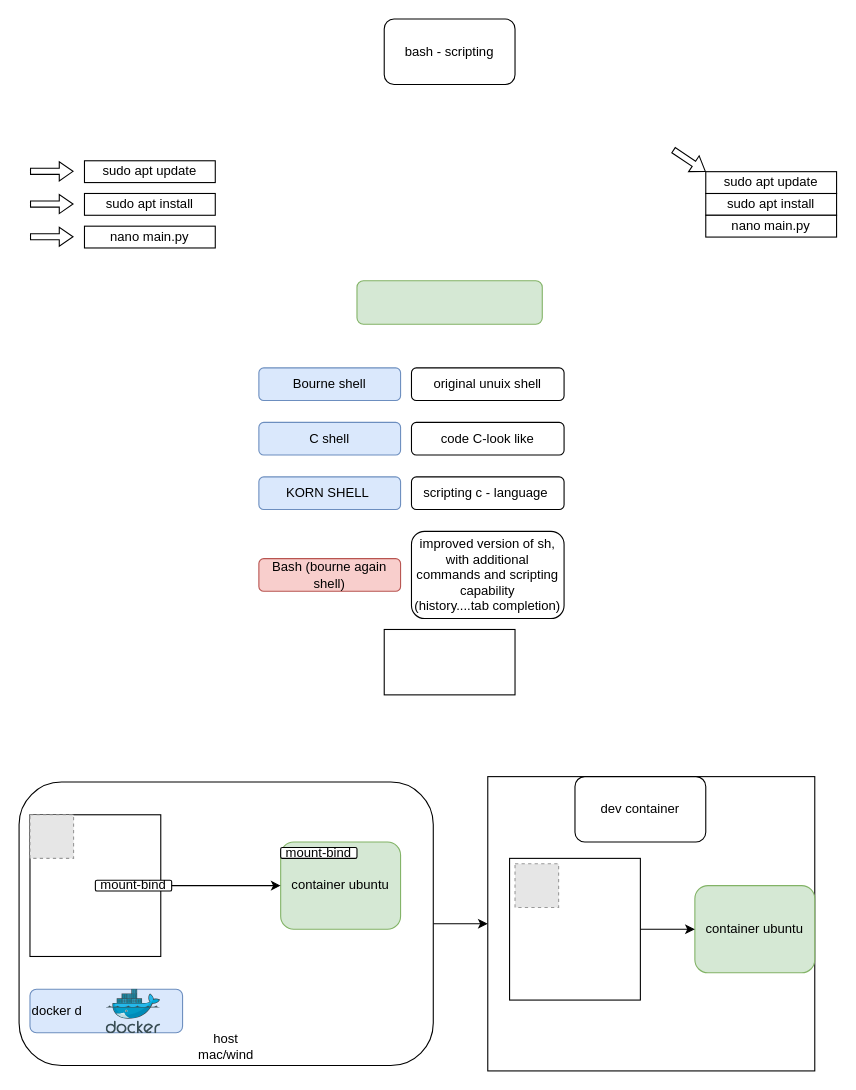
Some shapes in this 856 by 1090 pixel diagram are drawn without their labels. Grey dashed boxes stand in for pictures. The shapes that lost their labels are listed below. From the top down, each one's centre as x and y in pixels, then its label:
At pixel 449 302: "shells".
At pixel 449 661: "environment setup".
